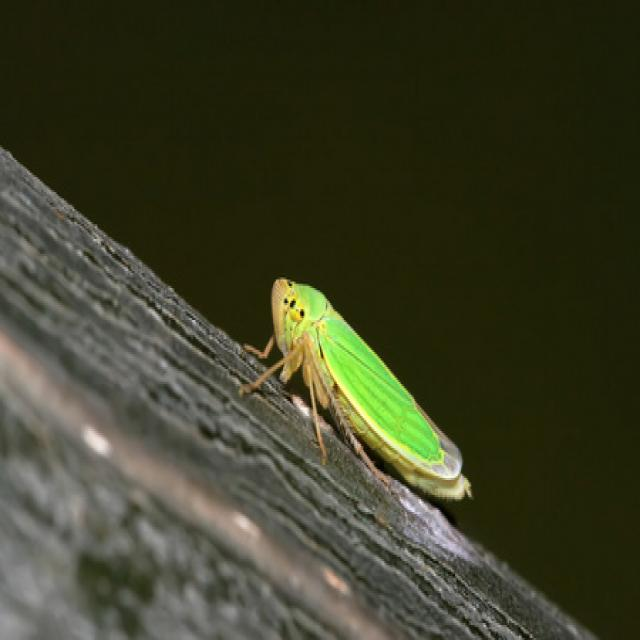Yechan: (256, 265, 482, 517)
